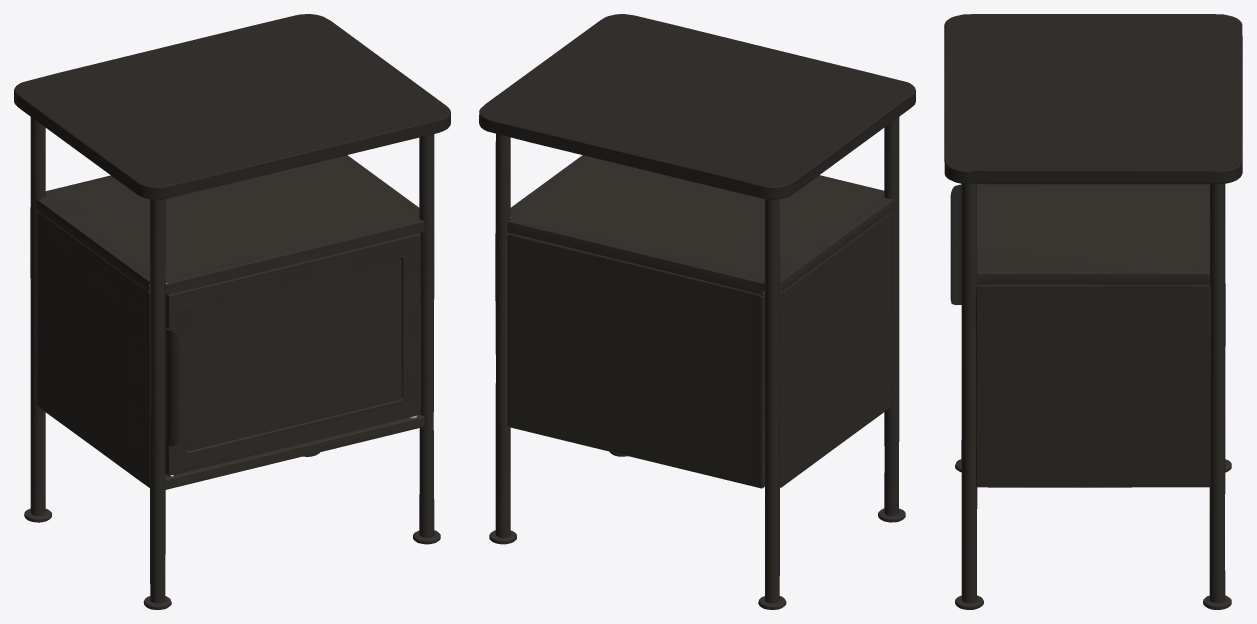
3 renders of one model, left to right at view 1: azimuth 30°, elevation 25°; view 2: azimuth 150°, elevation 25°; view 3: azimuth 270°, elevation 25°, orthographic. The views are drawn at different scales.
Visible parts, largest first — view 1: ASY_ART_20570221_S01_NV01; view 2: ASY_ART_20570221_S01_NV01; view 3: ASY_ART_20570221_S01_NV01.
Part boxes in pixels (x1=…): ASY_ART_20570221_S01_NV01: x1=14, y1=14, x2=450, y2=609; ASY_ART_20570221_S01_NV01: x1=479, y1=14, x2=915, y2=609; ASY_ART_20570221_S01_NV01: x1=944, y1=14, x2=1242, y2=609.
Bounding box in the file's own units: 0.4504 × 0.5926 × 0.3604.
Materials: 1 (1 with a texture image).
